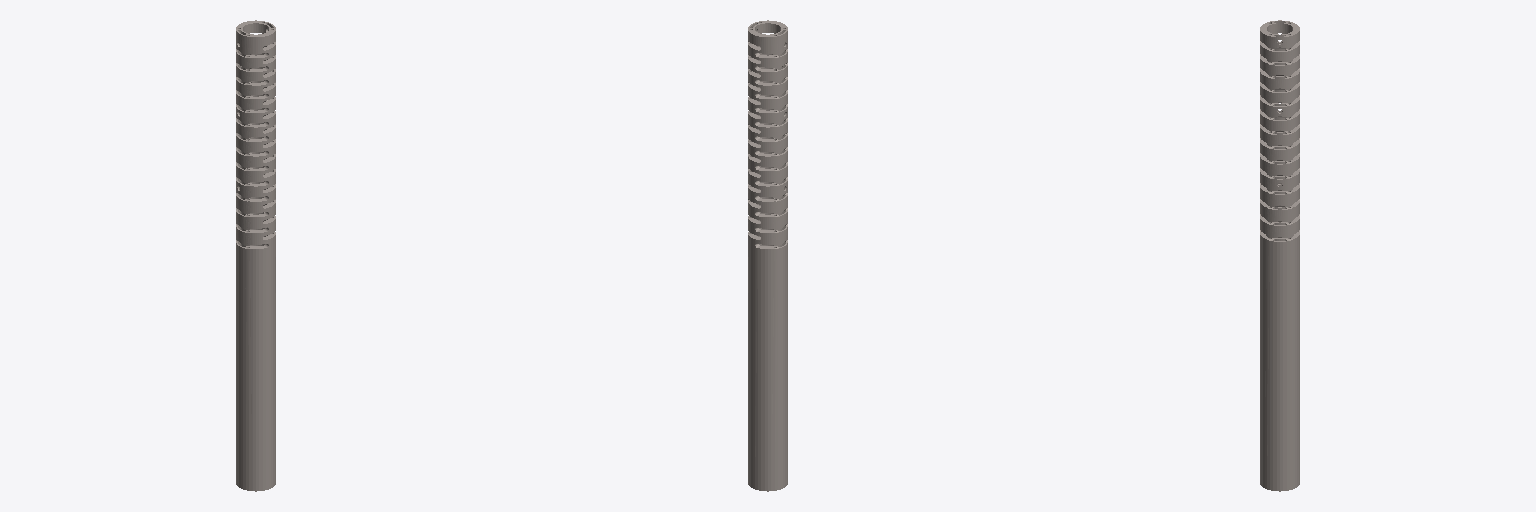
--- What the picture shows (computed from the rendered views, not written in the file) ---
The picture shows the robot from 3 angles, left to right: view 1: azimuth 30°, elevation 25°; view 2: azimuth 150°, elevation 25°; view 3: azimuth 270°, elevation 25°; orthographic projection.
Robot: snake_tool — 29 links, 28 joints (27 revolute, 1 fixed); root link link_00; default pose: every joint at zero.
Links seen in each view (by area): view 1: link_00, link_27; view 2: link_00, link_27; view 3: link_00, link_27, link_02, link_06, link_04, link_08, link_10, link_12, link_14, link_18, link_22, link_16 (+3 smaller).
Link boxes in pixels (x1,y1,x2,y2): link_00: (236,228,275,491); link_27: (236,20,275,54); link_00: (748,228,787,491); link_27: (748,20,787,54); link_00: (1260,233,1299,491); link_27: (1260,20,1299,48); link_02: (1260,217,1299,237); link_06: (1260,186,1299,206); link_04: (1260,201,1299,221); link_08: (1260,171,1299,190); link_10: (1260,156,1299,175); link_12: (1260,141,1299,160); link_14: (1260,126,1299,145); link_18: (1260,98,1299,117); link_22: (1260,70,1299,89); link_16: (1260,112,1299,131).
Bounding box of the posed robot: 0.006 × 0.006 × 0.075 m (x, y, z).
28 mesh visuals loaded from 28 distinct referenced files (28 binary STL).

robot.urdf — snake_tool:
<?xml version="1.0" encoding="utf-8"?>
<!-- This URDF was automatically created by SolidWorks to URDF Exporter! Originally created by Stephen Brawner ([email redacted]) 
     Commit Version: 1.6.0-4-g7f85cfe  Build Version: 1.6.7995.38578
     For more information, please see http://wiki.ros.org/sw_urdf_exporter -->
<robot
  name="snake_tool">
  <link
    name="link_00">
    <visual>
      <origin
        xyz="0 0 0"
        rpy="0 0 0" />
      <geometry>
        <mesh
          filename="package://snake_description/meshes/link_00.STL" scale="0.001 0.001 0.001" />
      </geometry>
      <material
        name="">
        <color
          rgba="0.690196078431373 0.658823529411765 0.63921568627451 1" />
      </material>
    </visual>
    <collision>
      <origin
        xyz="0 0 0"
        rpy="0 0 0" />
      <geometry>
        <mesh
          filename="package://snake_description/meshes/link_00.STL" scale="0.001 0.001 0.001" />
      </geometry>
    </collision>
  </link>
  <link
    name="link_01">
    <visual>
      <origin
        xyz="0 0 0"
        rpy="0 0 0" />
      <geometry>
        <mesh
          filename="package://snake_description/meshes/link_01.STL" scale="0.001 0.001 0.001" />
      </geometry>
      <material
        name="">
        <color
          rgba="0.690196078431373 0.658823529411765 0.63921568627451 1" />
      </material>
    </visual>
    <collision>
      <origin
        xyz="0 0 0"
        rpy="0 0 0" />
      <geometry>
        <mesh
          filename="package://snake_description/meshes/link_01.STL" scale="0.001 0.001 0.001" />
      </geometry>
    </collision>
  </link>
  <joint
    name="joint_00"
    type="revolute">
    <origin
      xyz="0 0 0.0410297210859283"
      rpy="0 0 0" />
    <parent
      link="link_00" />
    <child
      link="link_01" />
    <axis
      xyz="0 1 0" />
    <limit
      lower="-0.16"
      upper="0.16"
      effort="0"
      velocity="0" />
  </joint>
  <link
    name="link_02">
    <visual>
      <origin
        xyz="0 0 0"
        rpy="0 0 0" />
      <geometry>
        <mesh
          filename="package://snake_description/meshes/link_02.STL" scale="0.001 0.001 0.001" />
      </geometry>
      <material
        name="">
        <color
          rgba="0.690196078431373 0.658823529411765 0.63921568627451 1" />
      </material>
    </visual>
    <collision>
      <origin
        xyz="0 0 0"
        rpy="0 0 0" />
      <geometry>
        <mesh
          filename="package://snake_description/meshes/link_02.STL" scale="0.001 0.001 0.001" />
      </geometry>
    </collision>
  </link>
  <joint
    name="joint_01"
    type="revolute">
    <origin
      xyz="0 0 0.00132488253734261"
      rpy="0 0 0" />
    <parent
      link="link_01" />
    <child
      link="link_02" />
    <axis
      xyz="0 1 0" />
    <limit
      lower="-0.16"
      upper="0.16"
      effort="0"
      velocity="0" />
  </joint>
  <link
    name="link_03">
    <visual>
      <origin
        xyz="0 0 0"
        rpy="0 0 0" />
      <geometry>
        <mesh
          filename="package://snake_description/meshes/link_03.STL" scale="0.001 0.001 0.001" />
      </geometry>
      <material
        name="">
        <color
          rgba="0.690196078431373 0.658823529411765 0.63921568627451 1" />
      </material>
    </visual>
    <collision>
      <origin
        xyz="0 0 0"
        rpy="0 0 0" />
      <geometry>
        <mesh
          filename="package://snake_description/meshes/link_03.STL" scale="0.001 0.001 0.001" />
      </geometry>
    </collision>
  </link>
  <joint
    name="joint_02"
    type="revolute">
    <origin
      xyz="0 0 0.00131520544017122"
      rpy="0 0 0" />
    <parent
      link="link_02" />
    <child
      link="link_03" />
    <axis
      xyz="0 1 0" />
    <limit
      lower="-0.16"
      upper="0.16"
      effort="0"
      velocity="0" />
  </joint>
  <link
    name="link_04">
    <visual>
      <origin
        xyz="0 0 0"
        rpy="0 0 0" />
      <geometry>
        <mesh
          filename="package://snake_description/meshes/link_04.STL" scale="0.001 0.001 0.001" />
      </geometry>
      <material
        name="">
        <color
          rgba="0.690196078431373 0.658823529411765 0.63921568627451 1" />
      </material>
    </visual>
    <collision>
      <origin
        xyz="0 0 0"
        rpy="0 0 0" />
      <geometry>
        <mesh
          filename="package://snake_description/meshes/link_04.STL" scale="0.001 0.001 0.001" />
      </geometry>
    </collision>
  </link>
  <joint
    name="joint_03"
    type="revolute">
    <origin
      xyz="0 0 0.00130552834300195"
      rpy="0 0 0" />
    <parent
      link="link_03" />
    <child
      link="link_04" />
    <axis
      xyz="0 1 0" />
    <limit
      lower="-0.16"
      upper="0.16"
      effort="0"
      velocity="0" />
  </joint>
  <link
    name="link_05">
    <visual>
      <origin
        xyz="0 0 0"
        rpy="0 0 0" />
      <geometry>
        <mesh
          filename="package://snake_description/meshes/link_05.STL" scale="0.001 0.001 0.001" />
      </geometry>
      <material
        name="">
        <color
          rgba="0.690196078431373 0.658823529411765 0.63921568627451 1" />
      </material>
    </visual>
    <collision>
      <origin
        xyz="0 0 0"
        rpy="0 0 0" />
      <geometry>
        <mesh
          filename="package://snake_description/meshes/link_05.STL" scale="0.001 0.001 0.001" />
      </geometry>
    </collision>
  </link>
  <joint
    name="joint_04"
    type="revolute">
    <origin
      xyz="0 0 0.00129585124582631"
      rpy="0 0 0" />
    <parent
      link="link_04" />
    <child
      link="link_05" />
    <axis
      xyz="0 1 0" />
    <limit
      lower="-0.16"
      upper="0.16"
      effort="0"
      velocity="0" />
  </joint>
  <link
    name="link_06">
    <visual>
      <origin
        xyz="0 0 0"
        rpy="0 0 0" />
      <geometry>
        <mesh
          filename="package://snake_description/meshes/link_06.STL" scale="0.001 0.001 0.001" />
      </geometry>
      <material
        name="">
        <color
          rgba="0.690196078431373 0.658823529411765 0.63921568627451 1" />
      </material>
    </visual>
    <collision>
      <origin
        xyz="0 0 0"
        rpy="0 0 0" />
      <geometry>
        <mesh
          filename="package://snake_description/meshes/link_06.STL" scale="0.001 0.001 0.001" />
      </geometry>
    </collision>
  </link>
  <joint
    name="joint_05"
    type="revolute">
    <origin
      xyz="0 0 0.00128617414865916"
      rpy="0 0 0" />
    <parent
      link="link_05" />
    <child
      link="link_06" />
    <axis
      xyz="0 1 0" />
    <limit
      lower="0"
      upper="0"
      effort="0"
      velocity="0" />
  </joint>
  <link
    name="link_07">
    <visual>
      <origin
        xyz="0 0 0"
        rpy="0 0 0" />
      <geometry>
        <mesh
          filename="package://snake_description/meshes/link_07.STL" scale="0.001 0.001 0.001" />
      </geometry>
      <material
        name="">
        <color
          rgba="0.690196078431373 0.658823529411765 0.63921568627451 1" />
      </material>
    </visual>
    <collision>
      <origin
        xyz="0 0 0"
        rpy="0 0 0" />
      <geometry>
        <mesh
          filename="package://snake_description/meshes/link_07.STL" scale="0.001 0.001 0.001" />
      </geometry>
    </collision>
  </link>
  <joint
    name="joint_06"
    type="revolute">
    <origin
      xyz="0 0 0.00127649705148352"
      rpy="0 0 0" />
    <parent
      link="link_06" />
    <child
      link="link_07" />
    <axis
      xyz="0 1 0" />
    <limit
      lower="-0.16"
      upper="0.16"
      effort="0"
      velocity="0" />
  </joint>
  <link
    name="link_08">
    <visual>
      <origin
        xyz="0 0 0"
        rpy="0 0 0" />
      <geometry>
        <mesh
          filename="package://snake_description/meshes/link_08.STL" scale="0.001 0.001 0.001" />
      </geometry>
      <material
        name="">
        <color
          rgba="0.690196078431373 0.658823529411765 0.63921568627451 1" />
      </material>
    </visual>
    <collision>
      <origin
        xyz="0 0 0"
        rpy="0 0 0" />
      <geometry>
        <mesh
          filename="package://snake_description/meshes/link_08.STL" scale="0.001 0.001 0.001" />
      </geometry>
    </collision>
  </link>
  <joint
    name="joint_07"
    type="revolute">
    <origin
      xyz="0 0 0.00126681995431425"
      rpy="0 0 0" />
    <parent
      link="link_07" />
    <child
      link="link_08" />
    <axis
      xyz="0 1 0" />
    <limit
      lower="-0.16"
      upper="0.16"
      effort="0"
      velocity="0" />
  </joint>
  <link
    name="link_09">
    <visual>
      <origin
        xyz="0 0 0"
        rpy="0 0 0" />
      <geometry>
        <mesh
          filename="package://snake_description/meshes/link_09.STL" scale="0.001 0.001 0.001" />
      </geometry>
      <material
        name="">
        <color
          rgba="0.690196078431373 0.658823529411765 0.63921568627451 1" />
      </material>
    </visual>
    <collision>
      <origin
        xyz="0 0 0"
        rpy="0 0 0" />
      <geometry>
        <mesh
          filename="package://snake_description/meshes/link_09.STL" scale="0.001 0.001 0.001" />
      </geometry>
    </collision>
  </link>
  <joint
    name="joint_08"
    type="revolute">
    <origin
      xyz="0 0 0.00125714285714286"
      rpy="0 0 0" />
    <parent
      link="link_08" />
    <child
      link="link_09" />
    <axis
      xyz="0 1 0" />
    <limit
      lower="-0.16"
      upper="0.16"
      effort="0"
      velocity="0" />
  </joint>
  <link
    name="link_10">
    <visual>
      <origin
        xyz="0 0 0"
        rpy="0 0 0" />
      <geometry>
        <mesh
          filename="package://snake_description/meshes/link_10.STL" scale="0.001 0.001 0.001" />
      </geometry>
      <material
        name="">
        <color
          rgba="0.690196078431373 0.658823529411765 0.63921568627451 1" />
      </material>
    </visual>
    <collision>
      <origin
        xyz="0 0 0"
        rpy="0 0 0" />
      <geometry>
        <mesh
          filename="package://snake_description/meshes/link_10.STL" scale="0.001 0.001 0.001" />
      </geometry>
    </collision>
  </link>
  <joint
    name="joint_09"
    type="revolute">
    <origin
      xyz="0 0 0.00124746575997359"
      rpy="0 0 0" />
    <parent
      link="link_09" />
    <child
      link="link_10" />
    <axis
      xyz="0 1 0" />
    <limit
      lower="-0.16"
      upper="0.16"
      effort="0"
      velocity="0" />
  </joint>
  <link
    name="link_11">
    <visual>
      <origin
        xyz="0 0 0"
        rpy="0 0 0" />
      <geometry>
        <mesh
          filename="package://snake_description/meshes/link_11.STL" scale="0.001 0.001 0.001" />
      </geometry>
      <material
        name="">
        <color
          rgba="0.690196078431373 0.658823529411765 0.63921568627451 1" />
      </material>
    </visual>
    <collision>
      <origin
        xyz="0 0 0"
        rpy="0 0 0" />
      <geometry>
        <mesh
          filename="package://snake_description/meshes/link_11.STL" scale="0.001 0.001 0.001" />
      </geometry>
    </collision>
  </link>
  <joint
    name="joint_10"
    type="revolute">
    <origin
      xyz="0 0 0.00123778866279794"
      rpy="0 0 0" />
    <parent
      link="link_10" />
    <child
      link="link_11" />
    <axis
      xyz="0 1 0" />
    <limit
      lower="-0.16"
      upper="0.16"
      effort="0"
      velocity="0" />
  </joint>
  <link
    name="link_12">
    <visual>
      <origin
        xyz="0 0 0"
        rpy="0 0 0" />
      <geometry>
        <mesh
          filename="package://snake_description/meshes/link_12.STL" scale="0.001 0.001 0.001" />
      </geometry>
      <material
        name="">
        <color
          rgba="0.690196078431373 0.658823529411765 0.63921568627451 1" />
      </material>
    </visual>
    <collision>
      <origin
        xyz="0 0 0"
        rpy="0 0 0" />
      <geometry>
        <mesh
          filename="package://snake_description/meshes/link_12.STL" scale="0.001 0.001 0.001" />
      </geometry>
    </collision>
  </link>
  <joint
    name="joint_11"
    type="revolute">
    <origin
      xyz="0 0 0.00122811156562867"
      rpy="0 0 0" />
    <parent
      link="link_11" />
    <child
      link="link_12" />
    <axis
      xyz="0 1 0" />
    <limit
      lower="-0.16"
      upper="0.16"
      effort="0"
      velocity="0" />
  </joint>
  <link
    name="link_13">
    <visual>
      <origin
        xyz="0 0 0"
        rpy="0 0 0" />
      <geometry>
        <mesh
          filename="package://snake_description/meshes/link_13.STL" scale="0.001 0.001 0.001" />
      </geometry>
      <material
        name="">
        <color
          rgba="0.690196078431373 0.658823529411765 0.63921568627451 1" />
      </material>
    </visual>
    <collision>
      <origin
        xyz="0 0 0"
        rpy="0 0 0" />
      <geometry>
        <mesh
          filename="package://snake_description/meshes/link_13.STL" scale="0.001 0.001 0.001" />
      </geometry>
    </collision>
  </link>
  <joint
    name="joint_12"
    type="revolute">
    <origin
      xyz="0 0 0.00121843446845728"
      rpy="0 0 0" />
    <parent
      link="link_12" />
    <child
      link="link_13" />
    <axis
      xyz="0 1 0" />
    <limit
      lower="-0.16"
      upper="0.16"
      effort="0"
      velocity="0" />
  </joint>
  <link
    name="link_14">
    <visual>
      <origin
        xyz="0 0 0"
        rpy="0 0 0" />
      <geometry>
        <mesh
          filename="package://snake_description/meshes/link_14.STL" scale="0.001 0.001 0.001" />
      </geometry>
      <material
        name="">
        <color
          rgba="0.690196078431373 0.658823529411765 0.63921568627451 1" />
      </material>
    </visual>
    <collision>
      <origin
        xyz="0 0 0"
        rpy="0 0 0" />
      <geometry>
        <mesh
          filename="package://snake_description/meshes/link_14.STL" scale="0.001 0.001 0.001" />
      </geometry>
    </collision>
  </link>
  <joint
    name="joint_13"
    type="revolute">
    <origin
      xyz="0 0 0.00120875737128587"
      rpy="0 0 0" />
    <parent
      link="link_13" />
    <child
      link="link_14" />
    <axis
      xyz="0 1 0" />
    <limit
      lower="-0.16"
      upper="0.16"
      effort="0"
      velocity="0" />
  </joint>
  <link
    name="link_15">
    <visual>
      <origin
        xyz="0 0 0"
        rpy="0 0 0" />
      <geometry>
        <mesh
          filename="package://snake_description/meshes/link_15.STL" scale="0.001 0.001 0.001" />
      </geometry>
      <material
        name="">
        <color
          rgba="0.690196078431373 0.658823529411765 0.63921568627451 1" />
      </material>
    </visual>
    <collision>
      <origin
        xyz="0 0 0"
        rpy="0 0 0" />
      <geometry>
        <mesh
          filename="package://snake_description/meshes/link_15.STL" scale="0.001 0.001 0.001" />
      </geometry>
    </collision>
  </link>
  <joint
    name="joint_14"
    type="revolute">
    <origin
      xyz="0 0 0.00119908027411451"
      rpy="0 0 0" />
    <parent
      link="link_14" />
    <child
      link="link_15" />
    <axis
      xyz="0 1 0" />
    <limit
      lower="-0.16"
      upper="0.16"
      effort="0"
      velocity="0" />
  </joint>
  <link
    name="link_16">
    <visual>
      <origin
        xyz="0 0 0"
        rpy="0 0 0" />
      <geometry>
        <mesh
          filename="package://snake_description/meshes/link_16.STL" scale="0.001 0.001 0.001" />
      </geometry>
      <material
        name="">
        <color
          rgba="0.690196078431373 0.658823529411765 0.63921568627451 1" />
      </material>
    </visual>
    <collision>
      <origin
        xyz="0 0 0"
        rpy="0 0 0" />
      <geometry>
        <mesh
          filename="package://snake_description/meshes/link_16.STL" scale="0.001 0.001 0.001" />
      </geometry>
    </collision>
  </link>
  <joint
    name="joint_15"
    type="revolute">
    <origin
      xyz="0 0 0.0011894031769431"
      rpy="0 0 0" />
    <parent
      link="link_15" />
    <child
      link="link_16" />
    <axis
      xyz="0 1 0" />
    <limit
      lower="-0.16"
      upper="0.16"
      effort="0"
      velocity="0" />
  </joint>
  <link
    name="link_17">
    <visual>
      <origin
        xyz="0 0 0"
        rpy="0 0 0" />
      <geometry>
        <mesh
          filename="package://snake_description/meshes/link_17.STL" scale="0.001 0.001 0.001" />
      </geometry>
      <material
        name="">
        <color
          rgba="0.690196078431373 0.658823529411765 0.63921568627451 1" />
      </material>
    </visual>
    <collision>
      <origin
        xyz="0 0 0"
        rpy="0 0 0" />
      <geometry>
        <mesh
          filename="package://snake_description/meshes/link_17.STL" scale="0.001 0.001 0.001" />
      </geometry>
    </collision>
  </link>
  <joint
    name="joint_16"
    type="revolute">
    <origin
      xyz="0 0 0.0011797260797717"
      rpy="0 0 0" />
    <parent
      link="link_16" />
    <child
      link="link_17" />
    <axis
      xyz="0 1 0" />
    <limit
      lower="-0.16"
      upper="0.16"
      effort="0"
      velocity="0" />
  </joint>
  <link
    name="link_18">
    <visual>
      <origin
        xyz="0 0 0"
        rpy="0 0 0" />
      <geometry>
        <mesh
          filename="package://snake_description/meshes/link_18.STL" scale="0.001 0.001 0.001" />
      </geometry>
      <material
        name="">
        <color
          rgba="0.690196078431373 0.658823529411765 0.63921568627451 1" />
      </material>
    </visual>
    <collision>
      <origin
        xyz="0 0 0"
        rpy="0 0 0" />
      <geometry>
        <mesh
          filename="package://snake_description/meshes/link_18.STL" scale="0.001 0.001 0.001" />
      </geometry>
    </collision>
  </link>
  <joint
    name="joint_17"
    type="revolute">
    <origin
      xyz="0 0 0.00117004898260031"
      rpy="0 0 0" />
    <parent
      link="link_17" />
    <child
      link="link_18" />
    <axis
      xyz="0 1 0" />
    <limit
      lower="-0.16"
      upper="0.16"
      effort="0"
      velocity="0" />
  </joint>
  <link
    name="link_19">
    <visual>
      <origin
        xyz="0 0 0"
        rpy="0 0 0" />
      <geometry>
        <mesh
          filename="package://snake_description/meshes/link_19.STL" scale="0.001 0.001 0.001" />
      </geometry>
      <material
        name="">
        <color
          rgba="0.690196078431373 0.658823529411765 0.63921568627451 1" />
      </material>
    </visual>
    <collision>
      <origin
        xyz="0 0 0"
        rpy="0 0 0" />
      <geometry>
        <mesh
          filename="package://snake_description/meshes/link_19.STL" scale="0.001 0.001 0.001" />
      </geometry>
    </collision>
  </link>
  <joint
    name="joint_18"
    type="revolute">
    <origin
      xyz="0 0 0.00116037188542892"
      rpy="0 0 0" />
    <parent
      link="link_18" />
    <child
      link="link_19" />
    <axis
      xyz="0 1 0" />
    <limit
      lower="-0.16"
      upper="0.16"
      effort="0"
      velocity="0" />
  </joint>
  <link
    name="link_20">
    <visual>
      <origin
        xyz="0 0 0"
        rpy="0 0 0" />
      <geometry>
        <mesh
          filename="package://snake_description/meshes/link_20.STL" scale="0.001 0.001 0.001" />
      </geometry>
      <material
        name="">
        <color
          rgba="0.690196078431373 0.658823529411765 0.63921568627451 1" />
      </material>
    </visual>
    <collision>
      <origin
        xyz="0 0 0"
        rpy="0 0 0" />
      <geometry>
        <mesh
          filename="package://snake_description/meshes/link_20.STL" scale="0.001 0.001 0.001" />
      </geometry>
    </collision>
  </link>
  <joint
    name="joint_19"
    type="revolute">
    <origin
      xyz="0 0 0.00115069478825752"
      rpy="0 0 0" />
    <parent
      link="link_19" />
    <child
      link="link_20" />
    <axis
      xyz="0 1 0" />
    <limit
      lower="-0.16"
      upper="0.16"
      effort="0"
      velocity="0" />
  </joint>
  <link
    name="link_21">
    <visual>
      <origin
        xyz="0 0 0"
        rpy="0 0 0" />
      <geometry>
        <mesh
          filename="package://snake_description/meshes/link_21.STL" scale="0.001 0.001 0.001" />
      </geometry>
      <material
        name="">
        <color
          rgba="0.690196078431373 0.658823529411765 0.63921568627451 1" />
      </material>
    </visual>
    <collision>
      <origin
        xyz="0 0 0"
        rpy="0 0 0" />
      <geometry>
        <mesh
          filename="package://snake_description/meshes/link_21.STL" scale="0.001 0.001 0.001" />
      </geometry>
    </collision>
  </link>
  <joint
    name="joint_20"
    type="revolute">
    <origin
      xyz="0 0 0.00114101769108614"
      rpy="0 0 0" />
    <parent
      link="link_20" />
    <child
      link="link_21" />
    <axis
      xyz="0 1 0" />
    <limit
      lower="-0.16"
      upper="0.16"
      effort="0"
      velocity="0" />
  </joint>
  <link
    name="link_22">
    <visual>
      <origin
        xyz="0 0 0"
        rpy="0 0 0" />
      <geometry>
        <mesh
          filename="package://snake_description/meshes/link_22.STL" scale="0.001 0.001 0.001" />
      </geometry>
      <material
        name="">
        <color
          rgba="0.690196078431373 0.658823529411765 0.63921568627451 1" />
      </material>
    </visual>
    <collision>
      <origin
        xyz="0 0 0"
        rpy="0 0 0" />
      <geometry>
        <mesh
          filename="package://snake_description/meshes/link_22.STL" scale="0.001 0.001 0.001" />
      </geometry>
    </collision>
  </link>
  <joint
    name="joint_21"
    type="revolute">
    <origin
      xyz="0 0 0.00113295011421438"
      rpy="0 0 0" />
    <parent
      link="link_21" />
    <child
      link="link_22" />
    <axis
      xyz="0 1 0" />
    <limit
      lower="-0.16"
      upper="0.16"
      effort="0"
      velocity="0" />
  </joint>
  <link
    name="link_23">
    <visual>
      <origin
        xyz="0 0 0"
        rpy="0 0 0" />
      <geometry>
        <mesh
          filename="package://snake_description/meshes/link_23.STL" scale="0.001 0.001 0.001" />
      </geometry>
      <material
        name="">
        <color
          rgba="0.690196078431373 0.658823529411765 0.63921568627451 1" />
      </material>
    </visual>
    <collision>
      <origin
        xyz="0 0 0"
        rpy="0 0 0" />
      <geometry>
        <mesh
          filename="package://snake_description/meshes/link_23.STL" scale="0.001 0.001 0.001" />
      </geometry>
    </collision>
  </link>
  <joint
    name="joint_22"
    type="revolute">
    <origin
      xyz="0 0 0.00112972108592831"
      rpy="0 0 0" />
    <parent
      link="link_22" />
    <child
      link="link_23" />
    <axis
      xyz="0 1 0" />
    <limit
      lower="-0.16"
      upper="0.16"
      effort="0"
      velocity="0" />
  </joint>
  <link
    name="link_24">
    <visual>
      <origin
        xyz="0 0 0"
        rpy="0 0 0" />
      <geometry>
        <mesh
          filename="package://snake_description/meshes/link_24.STL" scale="0.001 0.001 0.001" />
      </geometry>
      <material
        name="">
        <color
          rgba="0.690196078431373 0.658823529411765 0.63921568627451 1" />
      </material>
    </visual>
    <collision>
      <origin
        xyz="0 0 0"
        rpy="0 0 0" />
      <geometry>
        <mesh
          filename="package://snake_description/meshes/link_24.STL" scale="0.001 0.001 0.001" />
      </geometry>
    </collision>
  </link>
  <joint
    name="joint_23"
    type="revolute">
    <origin
      xyz="0 0 0.00112972108593046"
      rpy="0 0 0" />
    <parent
      link="link_23" />
    <child
      link="link_24" />
    <axis
      xyz="0 1 0" />
    <limit
      lower="-0.16"
      upper="0.16"
      effort="0"
      velocity="0" />
  </joint>
  <link
    name="link_25">
    <visual>
      <origin
        xyz="0 0 0"
        rpy="0 0 0" />
      <geometry>
        <mesh
          filename="package://snake_description/meshes/link_25.STL" scale="0.001 0.001 0.001" />
      </geometry>
      <material
        name="">
        <color
          rgba="0.690196078431373 0.658823529411765 0.63921568627451 1" />
      </material>
    </visual>
    <collision>
      <origin
        xyz="0 0 0"
        rpy="0 0 0" />
      <geometry>
        <mesh
          filename="package://snake_description/meshes/link_25.STL" scale="0.001 0.001 0.001" />
      </geometry>
    </collision>
  </link>
  <joint
    name="joint_24"
    type="revolute">
    <origin
      xyz="0 0 0.00112972108592616"
      rpy="0 0 0" />
    <parent
      link="link_24" />
    <child
      link="link_25" />
    <axis
      xyz="0 1 0" />
    <limit
      lower="-0.16"
      upper="0.16"
      effort="0"
      velocity="0" />
  </joint>
  <link
    name="link_26">
    <visual>
      <origin
        xyz="0 0 0"
        rpy="0 0 0" />
      <geometry>
        <mesh
          filename="package://snake_description/meshes/link_26.STL" scale="0.001 0.001 0.001" />
      </geometry>
      <material
        name="">
        <color
          rgba="0.690196078431373 0.658823529411765 0.63921568627451 1" />
      </material>
    </visual>
    <collision>
      <origin
        xyz="0 0 0"
        rpy="0 0 0" />
      <geometry>
        <mesh
          filename="package://snake_description/meshes/link_26.STL" scale="0.001 0.001 0.001" />
      </geometry>
    </collision>
  </link>
  <joint
    name="joint_25"
    type="revolute">
    <origin
      xyz="0 0 0.00112972108592835"
      rpy="0 0 0" />
    <parent
      link="link_25" />
    <child
      link="link_26" />
    <axis
      xyz="0 1 0" />
    <limit
      lower="-0.16"
      upper="0.16"
      effort="0"
      velocity="0" />
  </joint>
  <link
    name="link_27">
    <visual>
      <origin
        xyz="0 0 0"
        rpy="0 0 0" />
      <geometry>
        <mesh
          filename="package://snake_description/meshes/link_27.STL" scale="0.001 0.001 0.001" />
      </geometry>
      <material
        name="">
        <color
          rgba="0.690196078431373 0.658823529411765 0.63921568627451 1" />
      </material>
    </visual>
    <collision>
      <origin
        xyz="0 0 0"
        rpy="0 0 0" />
      <geometry>
        <mesh
          filename="package://snake_description/meshes/link_27.STL" scale="0.001 0.001 0.001" />
      </geometry>
    </collision>
  </link>
  <joint
    name="joint_26"
    type="revolute">
    <origin
      xyz="0 0 0.00112972108592829"
      rpy="0 0 0" />
    <parent
      link="link_26" />
    <child
      link="link_27" />
    <axis
      xyz="0 1 0" />
    <limit
      lower="-0.16"
      upper="0.16"
      effort="0"
      velocity="0" />
  </joint>
  <link name="link_ee" />
  <joint
    name="joint_27"
    type="fixed">
    <origin
      xyz="0 0 0.0025297210859283"
      rpy="0 0 0" />
    <parent
      link="link_27" />
    <child
      link="link_ee" />
    <axis
      xyz="0 0 0" />
  </joint>
</robot>
